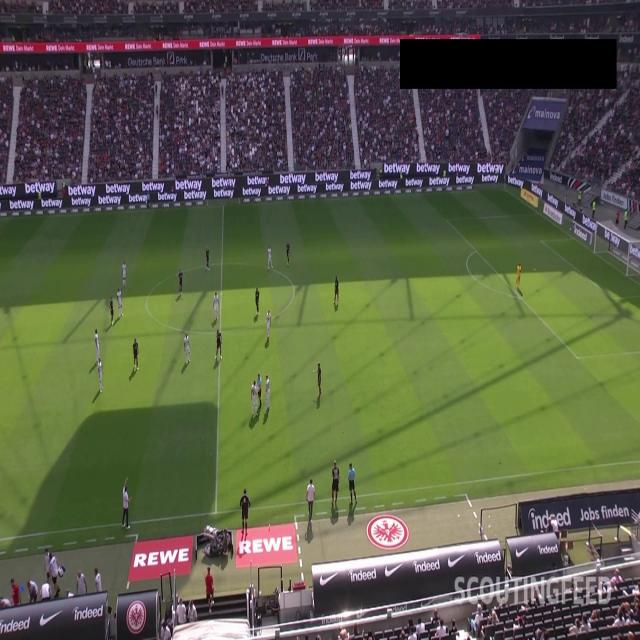player: (331, 459, 342, 508), (92, 324, 104, 362), (95, 360, 106, 396), (130, 336, 140, 375), (254, 286, 264, 323), (248, 376, 257, 416), (315, 361, 324, 399), (213, 328, 223, 360), (116, 286, 125, 321), (264, 375, 272, 411), (212, 289, 221, 320), (264, 308, 273, 337), (516, 258, 524, 290), (335, 273, 341, 313), (121, 259, 129, 287), (176, 269, 184, 296), (266, 243, 274, 270), (184, 330, 190, 365), (203, 247, 211, 273), (110, 294, 116, 323), (286, 237, 292, 265)
